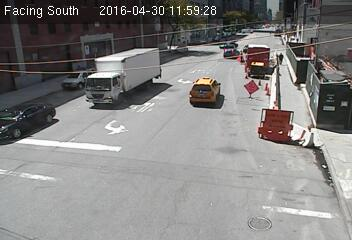neg: (183, 76, 207, 107), (122, 61, 142, 87), (251, 80, 268, 102)
pos: (275, 46, 289, 66)
